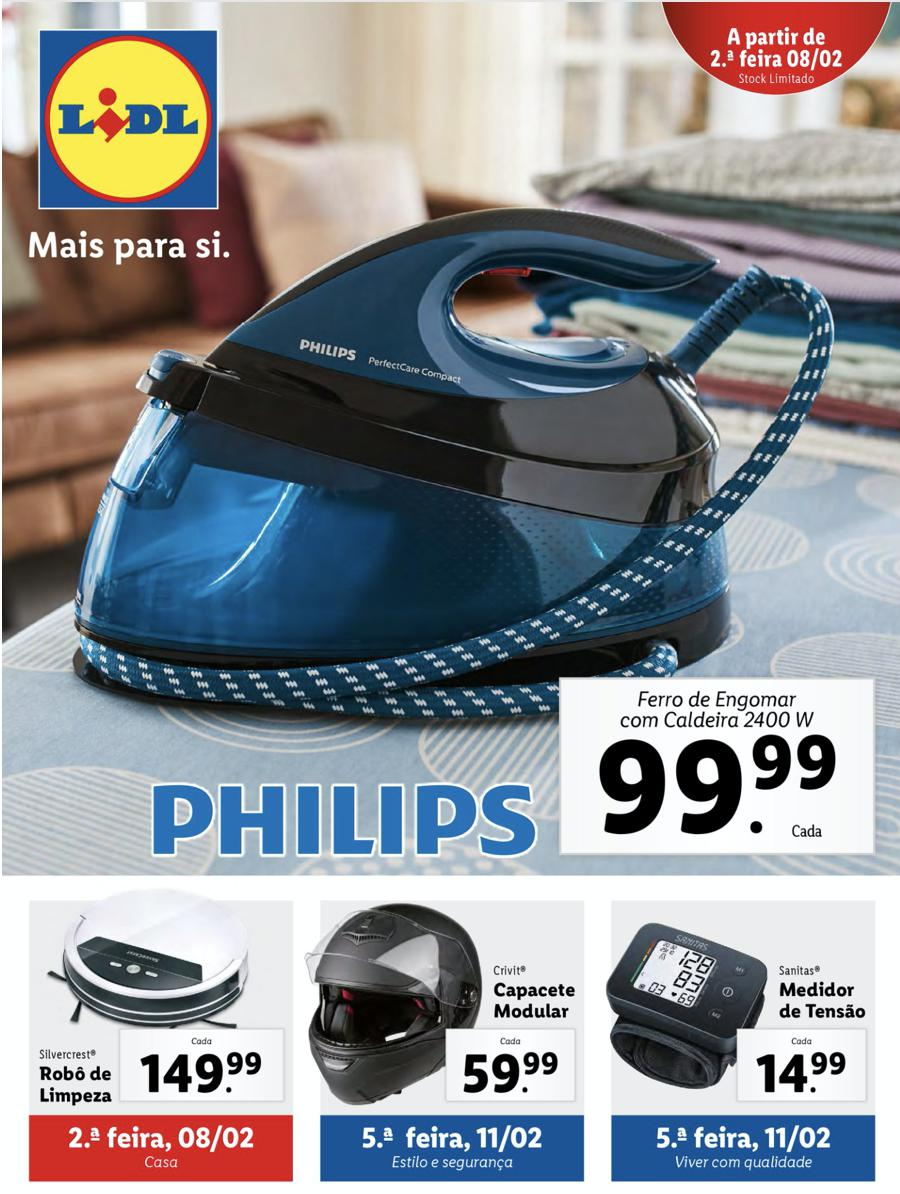name: (770, 971, 869, 1021), (491, 973, 583, 1022), (39, 1060, 117, 1107)
price: (591, 728, 842, 844), (139, 1040, 271, 1106), (752, 1046, 861, 1098), (458, 1044, 561, 1097)
product: (45, 193, 876, 871), (20, 885, 292, 1112), (607, 898, 879, 1116), (310, 900, 586, 1112)
